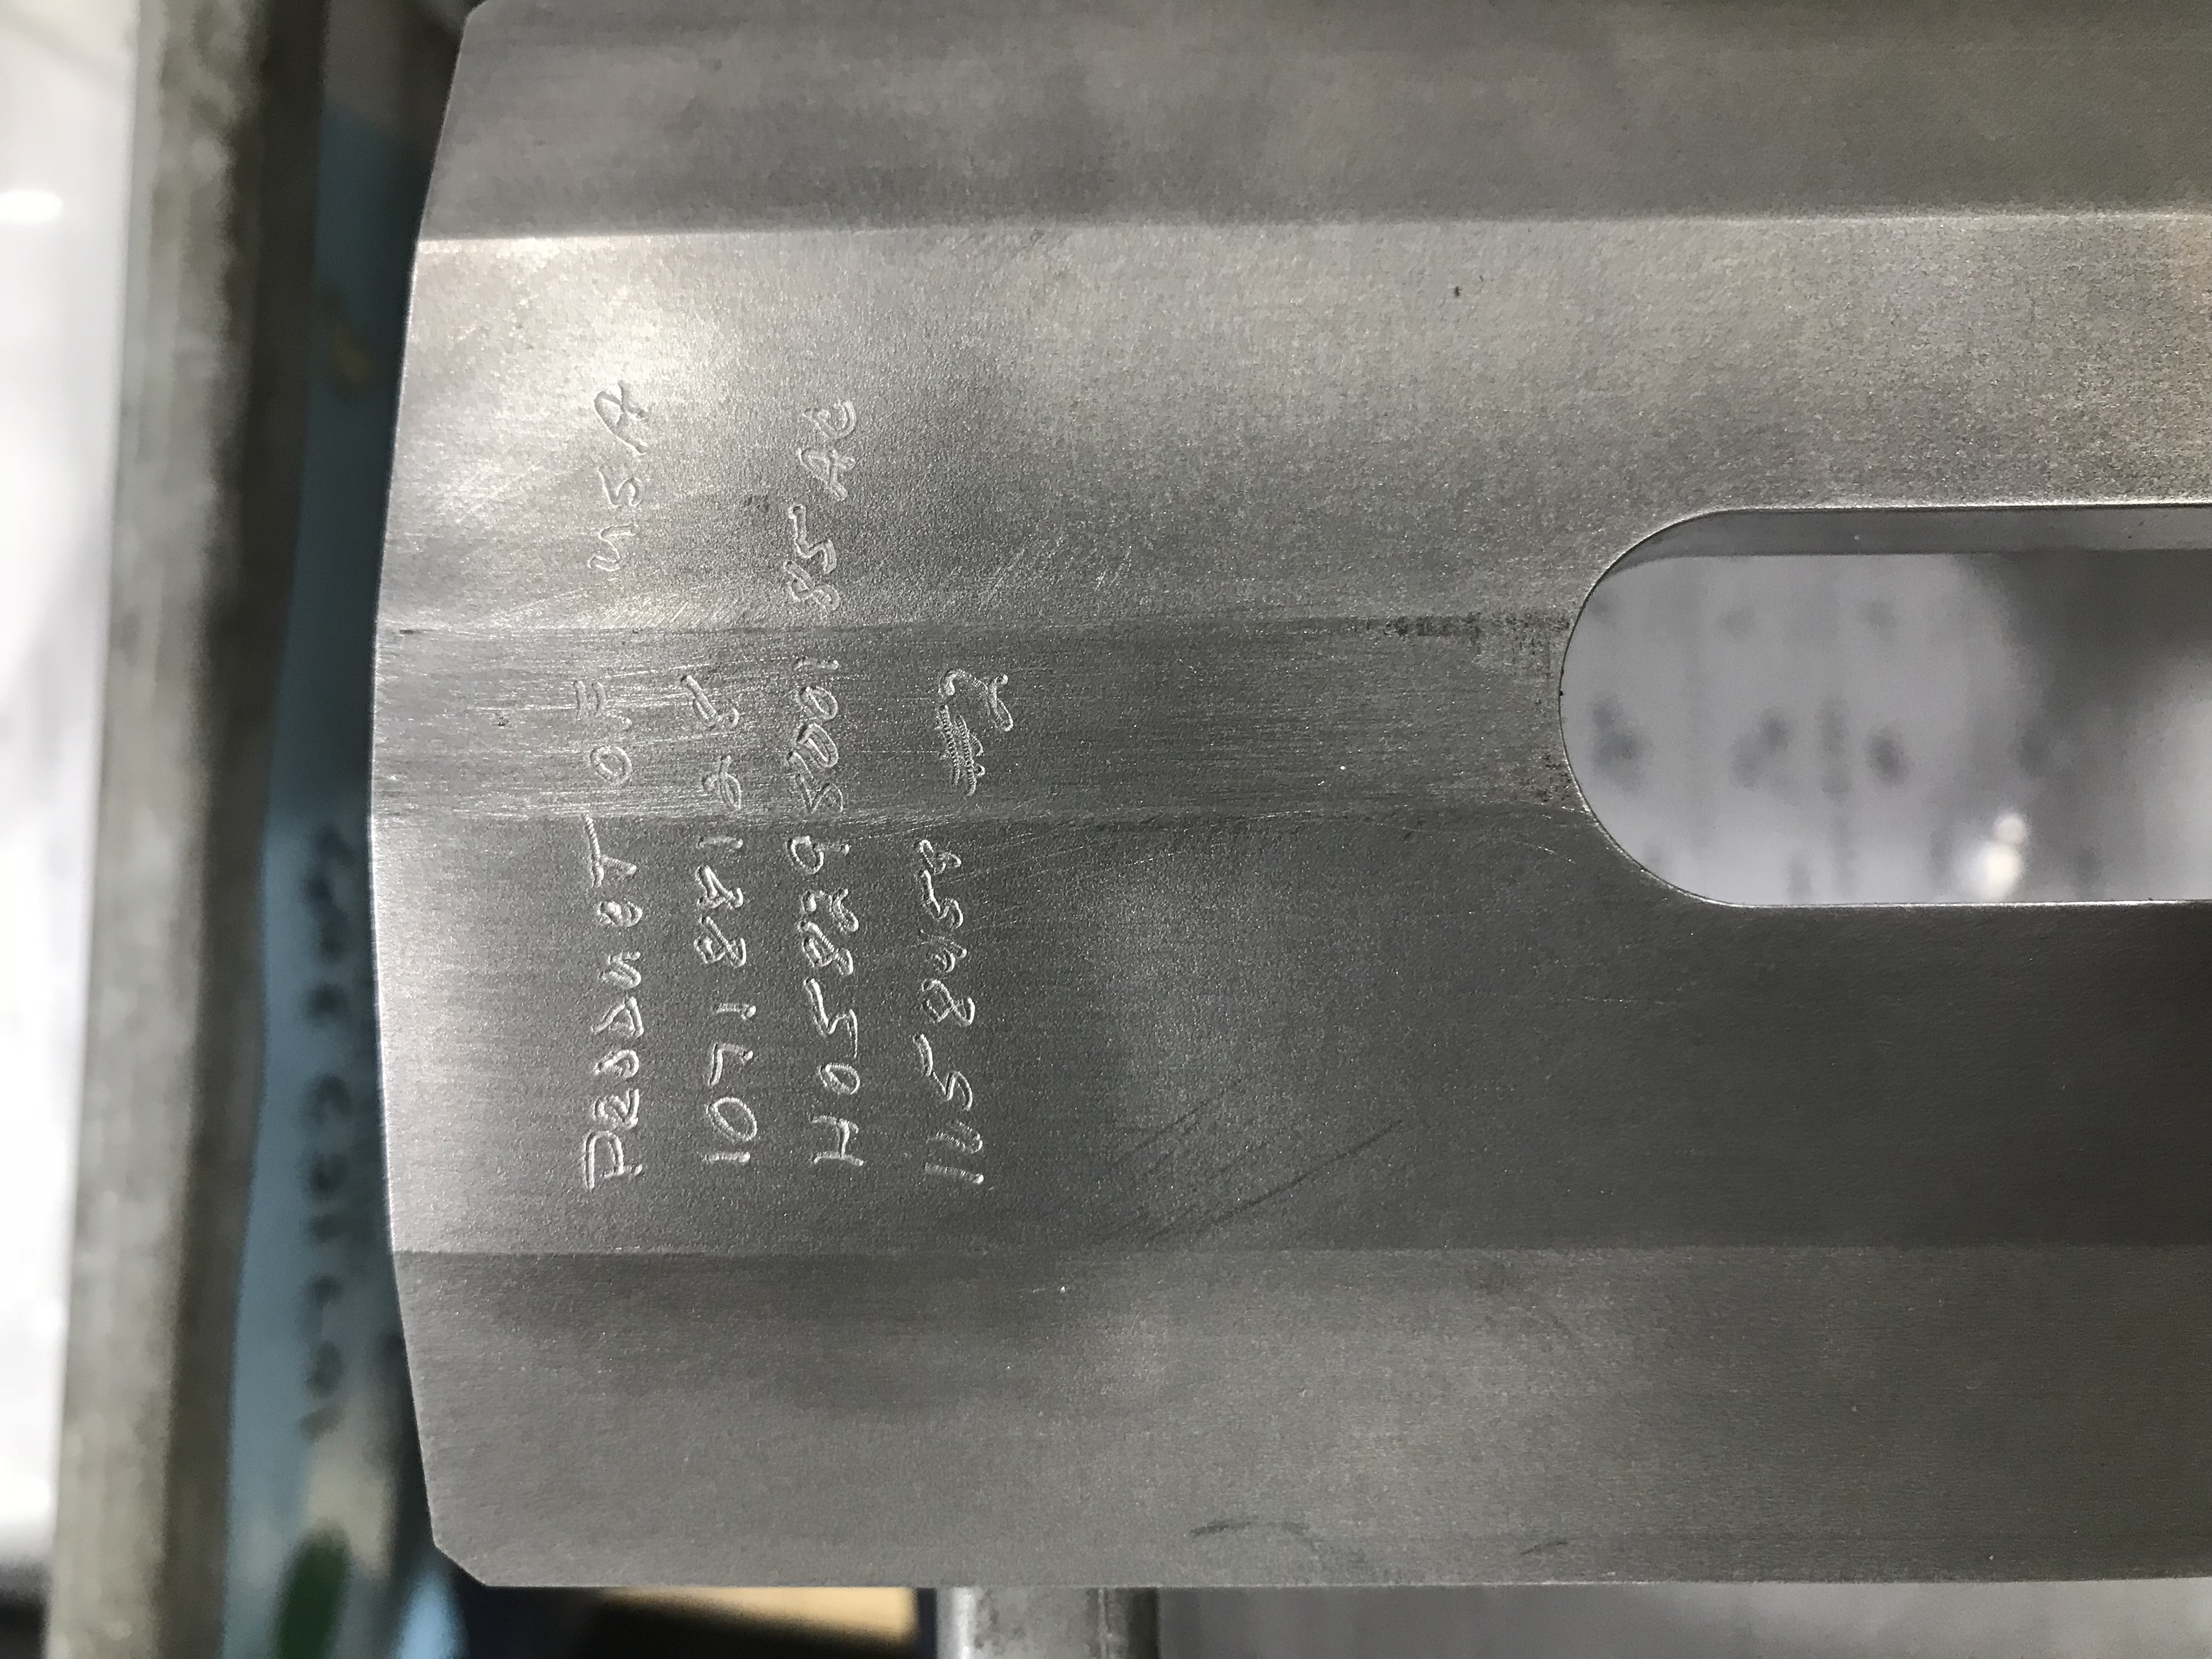character: (566, 807, 650, 903), (796, 972, 871, 1058), (932, 662, 1022, 732), (909, 1028, 986, 1110), (932, 704, 989, 800), (777, 500, 853, 572), (674, 664, 745, 737), (571, 1122, 648, 1190), (564, 673, 639, 741), (805, 1103, 871, 1176), (590, 376, 655, 451), (587, 992, 662, 1053), (914, 967, 989, 1028), (688, 908, 752, 978), (691, 755, 761, 819), (792, 918, 864, 978), (796, 878, 871, 934), (813, 1053, 876, 1119), (786, 830, 857, 885), (698, 1037, 770, 1091), (787, 753, 852, 812), (580, 516, 641, 577), (801, 441, 866, 498), (777, 558, 843, 613), (693, 1093, 768, 1141), (909, 1157, 995, 1199), (913, 864, 968, 927), (587, 458, 651, 511), (686, 861, 752, 911), (585, 896, 653, 945), (589, 1086, 651, 1138), (587, 946, 657, 993), (787, 721, 850, 774), (907, 925, 974, 972), (907, 826, 970, 875), (580, 737, 637, 789), (803, 394, 869, 439), (918, 1114, 991, 1154), (585, 1044, 644, 1091), (704, 990, 765, 1030), (792, 681, 850, 721), (686, 828, 749, 863), (698, 1145, 765, 1176), (791, 648, 846, 680)
